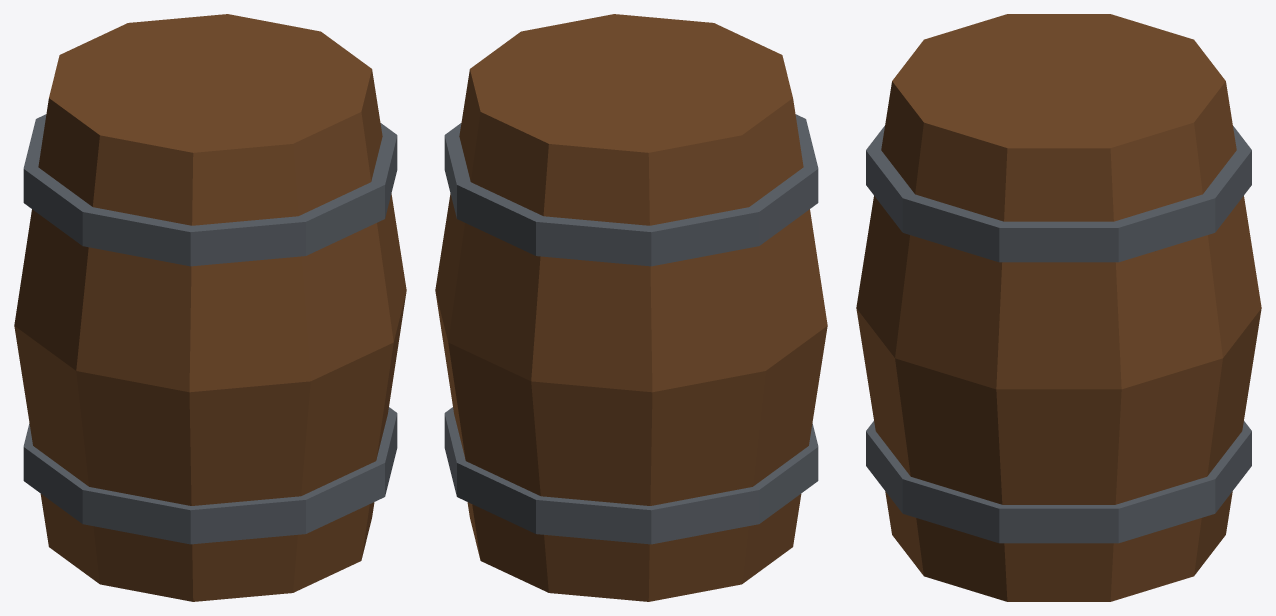
File: barrel_broken.glb
3 views of the same model, side by side, from view 1: azimuth 30°, elevation 25°; view 2: azimuth 150°, elevation 25°; view 3: azimuth 270°, elevation 25° (orthographic).
Parts seen in each view (by area): view 1: barrel_piece2, barrel_piece1, barrel_piece3, barrel_piece0, barrel_piece4, barrel_piece5; view 2: barrel_piece5, barrel_piece0, barrel_piece2, barrel_piece3, barrel_piece4, barrel_piece1; view 3: barrel_piece1, barrel_piece0, barrel_piece2, barrel_piece4, barrel_piece5, barrel_piece3.
Part boxes in pixels (x1=…): barrel_piece2: x1=52, y1=27, x2=366, y2=427; barrel_piece1: x1=235, y1=65, x2=406, y2=568; barrel_piece3: x1=31, y1=303, x2=223, y2=595; barrel_piece0: x1=40, y1=14, x2=299, y2=289; barrel_piece4: x1=161, y1=398, x2=344, y2=601; barrel_piece5: x1=14, y1=49, x2=72, y2=485; barrel_piece5: x1=478, y1=146, x2=794, y2=601; barrel_piece0: x1=443, y1=78, x2=802, y2=542; barrel_piece2: x1=439, y1=16, x2=822, y2=384; barrel_piece3: x1=452, y1=294, x2=827, y2=589; barrel_piece4: x1=442, y1=325, x2=484, y2=562; barrel_piece1: x1=435, y1=14, x2=641, y2=410; barrel_piece1: x1=856, y1=111, x2=1158, y2=601; barrel_piece0: x1=1023, y1=14, x2=1250, y2=540; barrel_piece2: x1=867, y1=14, x2=1190, y2=437; barrel_piece4: x1=872, y1=391, x2=1196, y2=601; barrel_piece5: x1=1162, y1=30, x2=1261, y2=560; barrel_piece3: x1=1169, y1=420, x2=1209, y2=573.
Size of the model in its own units: 0.1617 by 0.21 by 0.17.
